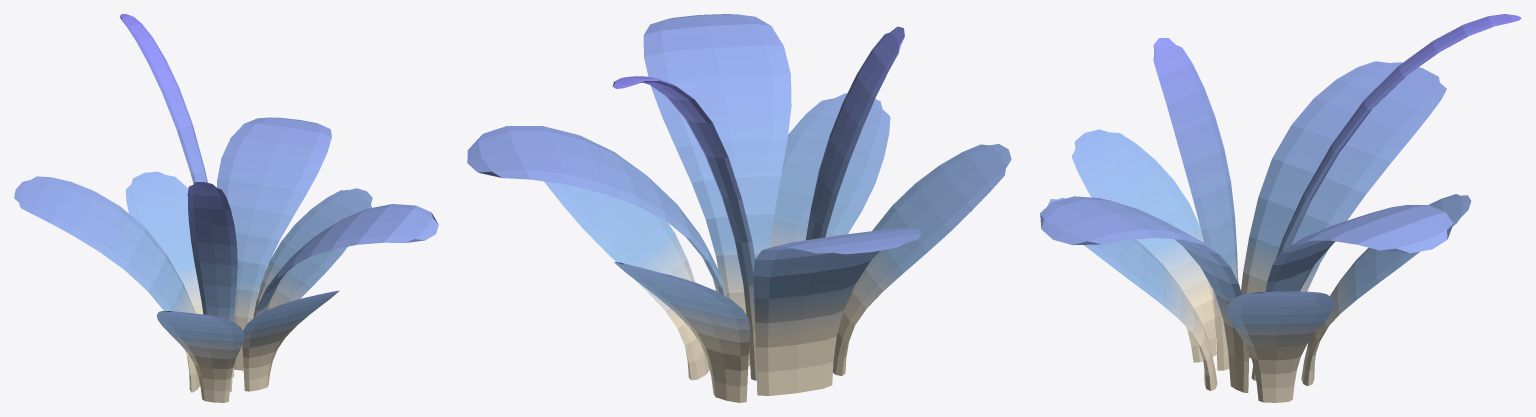
Rendered from coldleaf.fbx.
3 views of the same model, side by side, from view 1: azimuth 30°, elevation 25°; view 2: azimuth 150°, elevation 25°; view 3: azimuth 270°, elevation 25° (orthographic). The views are drawn at different scales.
Parts seen in each view (by area): view 1: coldleaf.002; view 2: coldleaf.002; view 3: coldleaf.002.
Part boxes in pixels (x1=…): coldleaf.002: x1=14, y1=14, x2=438, y2=402; coldleaf.002: x1=467, y1=14, x2=1011, y2=402; coldleaf.002: x1=1040, y1=14, x2=1521, y2=402.
Bounding box in the file's own units: 117 × 102 × 124.
1 material, 1 textured.
